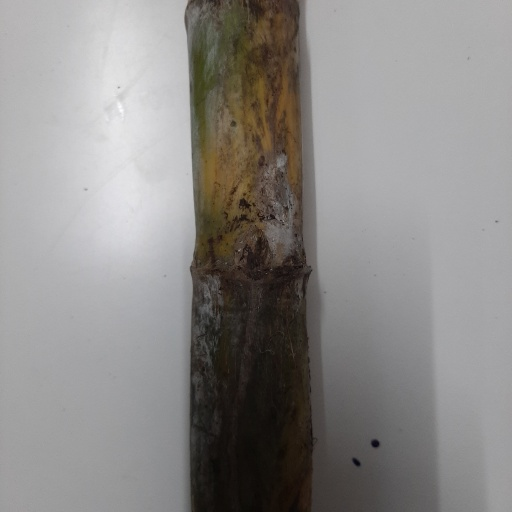Bud: (234, 223, 274, 280)
